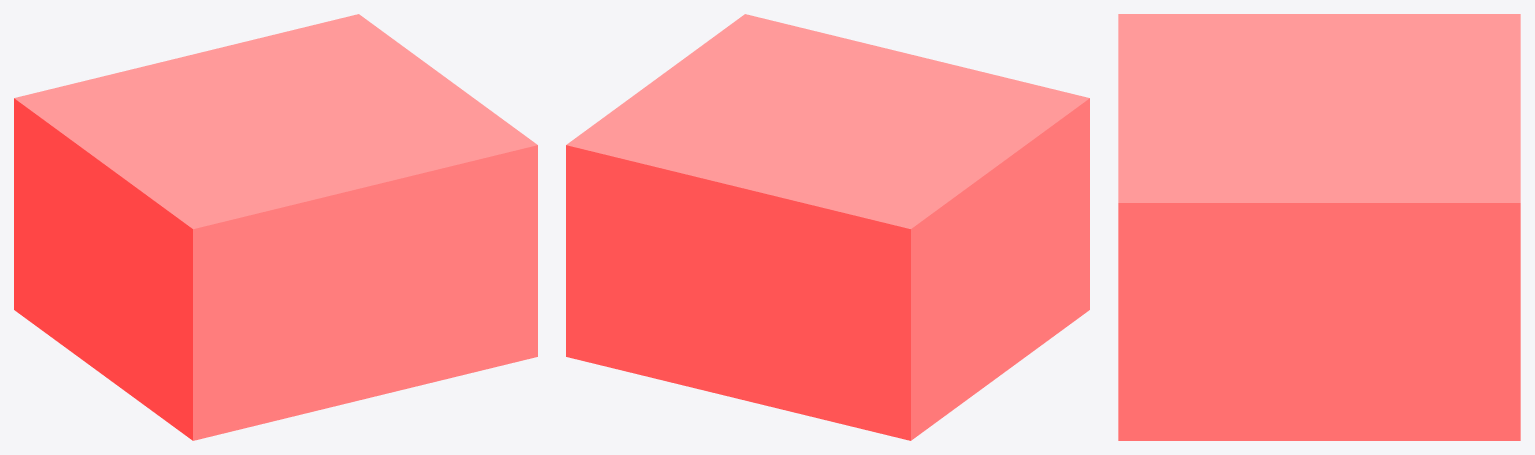
The model's file is Cube_Maya_02.DAE.
3 views of the same model, side by side, from view 1: azimuth 30°, elevation 25°; view 2: azimuth 150°, elevation 25°; view 3: azimuth 270°, elevation 25° (orthographic). The views are drawn at different scales.
Parts seen in each view (by area): view 1: pCube1; view 2: pCube1; view 3: pCube1.
Boxes of the visible parts, x1=… form: pCube1: x1=14, y1=14, x2=537, y2=440; pCube1: x1=566, y1=14, x2=1089, y2=440; pCube1: x1=1118, y1=14, x2=1520, y2=440.
Bounding box in the file's own units: 1.95 × 1.14 × 1.75.
